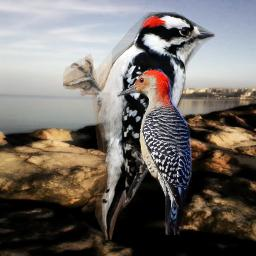Woodpecker: (63, 12, 215, 240), (117, 68, 192, 235)
